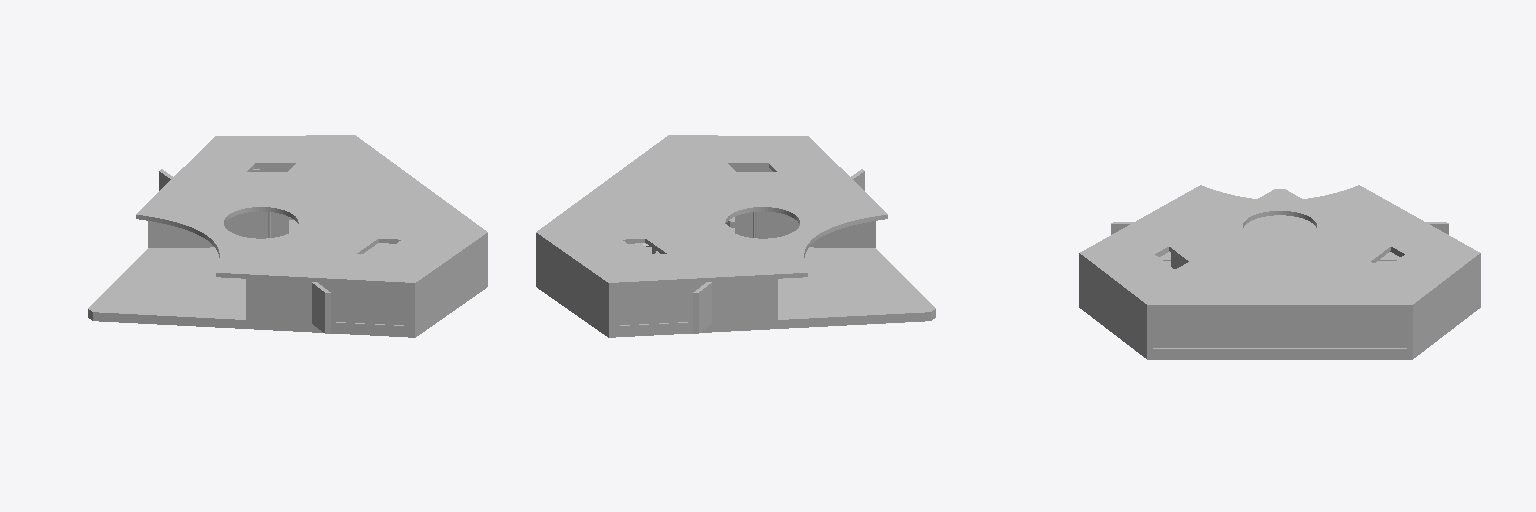
Rendered from vr-os-home-model.obj.
The picture shows the model from 3 angles: view 1: azimuth 30°, elevation 25°; view 2: azimuth 150°, elevation 25°; view 3: azimuth 270°, elevation 25°; orthographic projection.
Parts seen in each view (by area): view 1: m_roof, m_floor, m_wall, m_glazing; view 2: m_roof, m_floor, m_wall, m_glazing; view 3: m_roof, m_glazing, m_wall, m_floor.
Part boxes in pixels (x1,y1,x2,y2): m_roof: (136,135,487,287); m_floor: (88,220,487,337); m_wall: (148,167,487,333); m_glazing: (210,212,409,325); m_roof: (536,135,887,287); m_floor: (536,217,935,337); m_wall: (536,167,875,333); m_glazing: (614,212,813,325); m_roof: (1079,185,1480,308); m_glazing: (1153,312,1406,347); m_wall: (1079,222,1480,350); m_floor: (1079,189,1480,359).
Bounding box in the file's own units: 23.49 × 4.32 × 24.62.